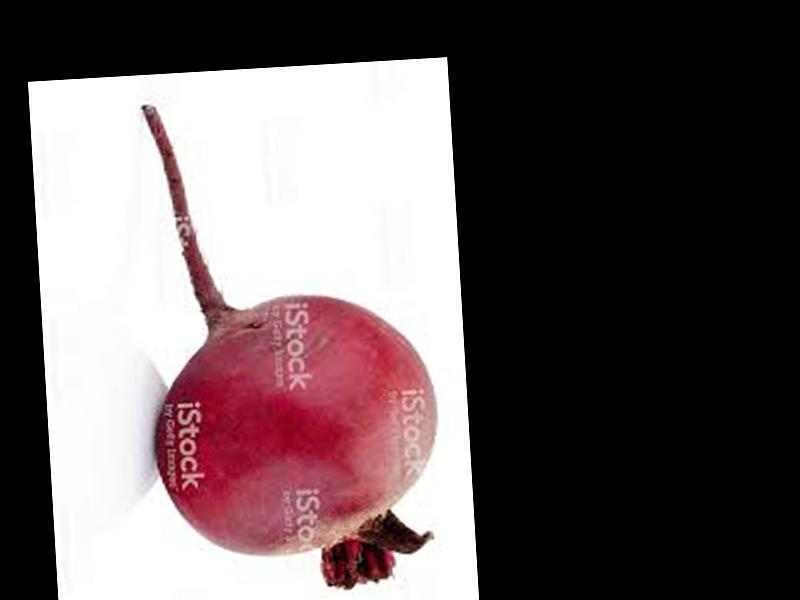Beet: (135, 91, 445, 598)
